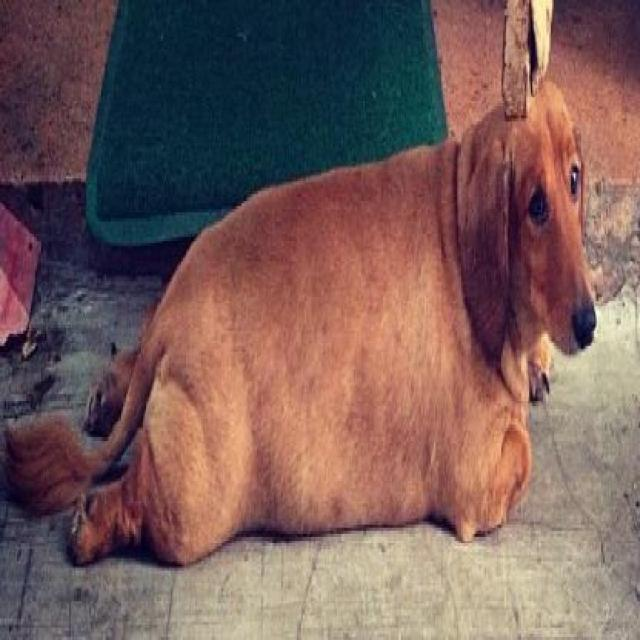Dog: (4, 51, 602, 566)
